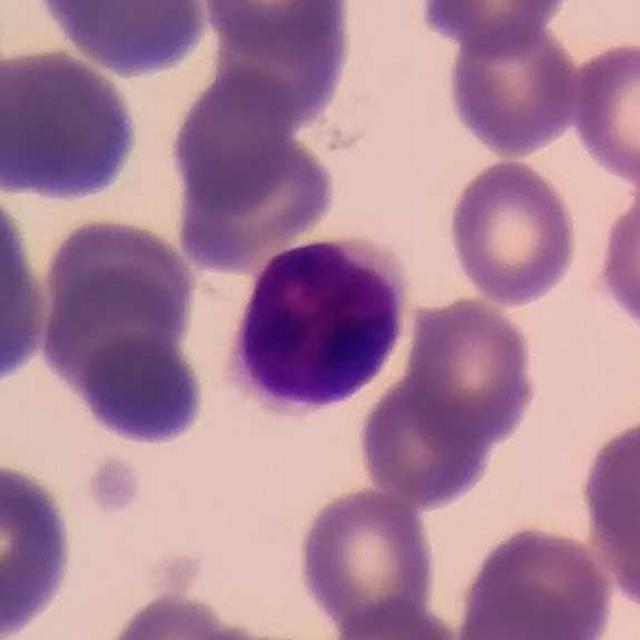Lymphocyte: (219, 230, 414, 423)
Platelets: (84, 456, 144, 516)
RBC: (172, 128, 340, 272), (0, 45, 142, 204), (36, 256, 190, 401), (294, 484, 439, 636), (401, 293, 540, 451), (443, 155, 582, 308), (202, 3, 358, 132), (165, 64, 299, 214), (38, 211, 200, 334), (355, 368, 495, 508), (456, 521, 618, 640), (443, 21, 582, 159), (72, 329, 210, 451), (0, 456, 78, 640), (34, 0, 215, 79), (576, 410, 640, 601), (0, 180, 53, 400), (567, 37, 640, 186), (92, 589, 298, 640), (196, 0, 355, 62), (414, 0, 573, 55), (450, 583, 603, 640), (1, 41, 47, 204), (593, 182, 640, 340), (320, 596, 466, 640)
